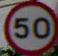Speed limit: (3, 1, 53, 53)
